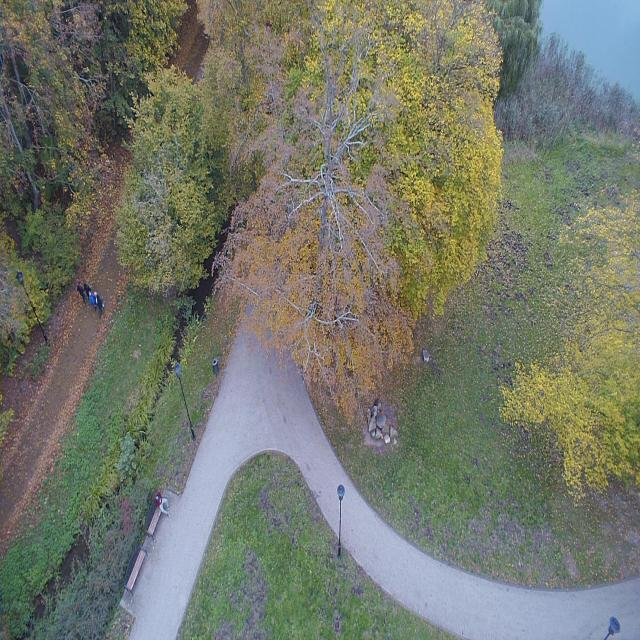p3rson: (155, 492, 171, 517), (94, 291, 104, 317), (77, 280, 86, 302), (89, 292, 96, 310), (84, 282, 91, 296)
